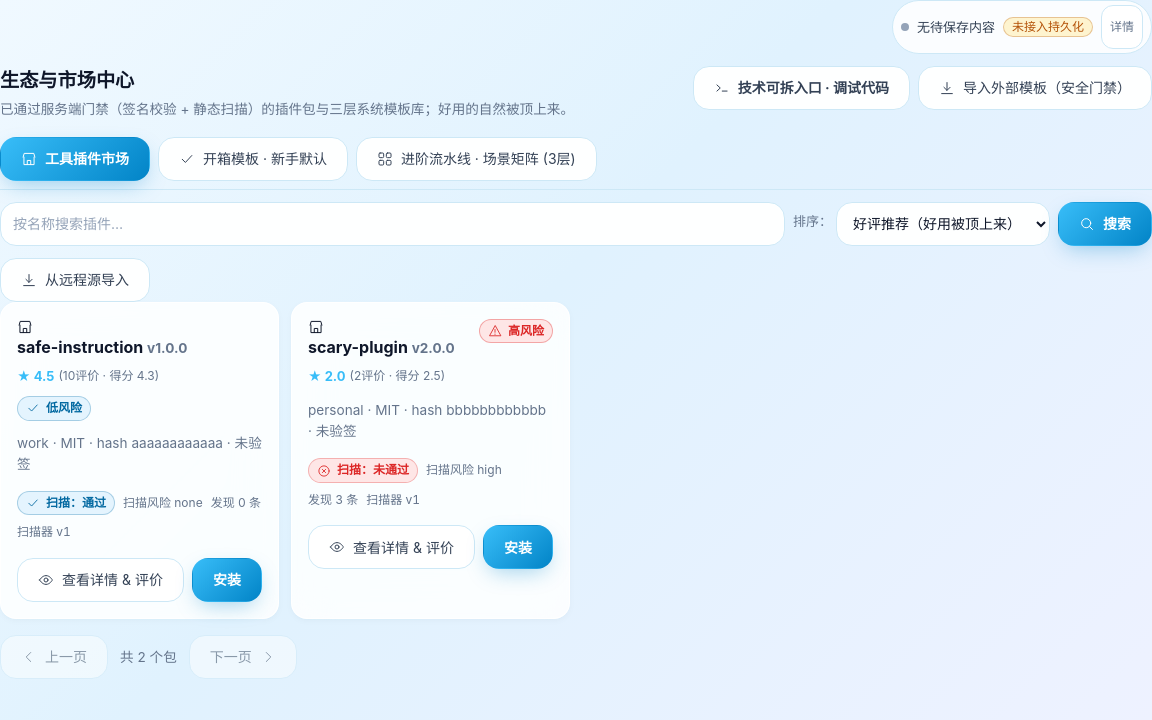
PluginMarketPage 详情与安装 › 门禁核心：高风险包在详情里再次显示高风险标记 + 能力声明 + 扫描摘要
This screenshot has width=1152, height=720.
What coordinates should you click on to do the following:
click the button with test id "plugin-detail-sk-high"
I would click on:
 (391, 548)
Its box is [308,526,475,570].
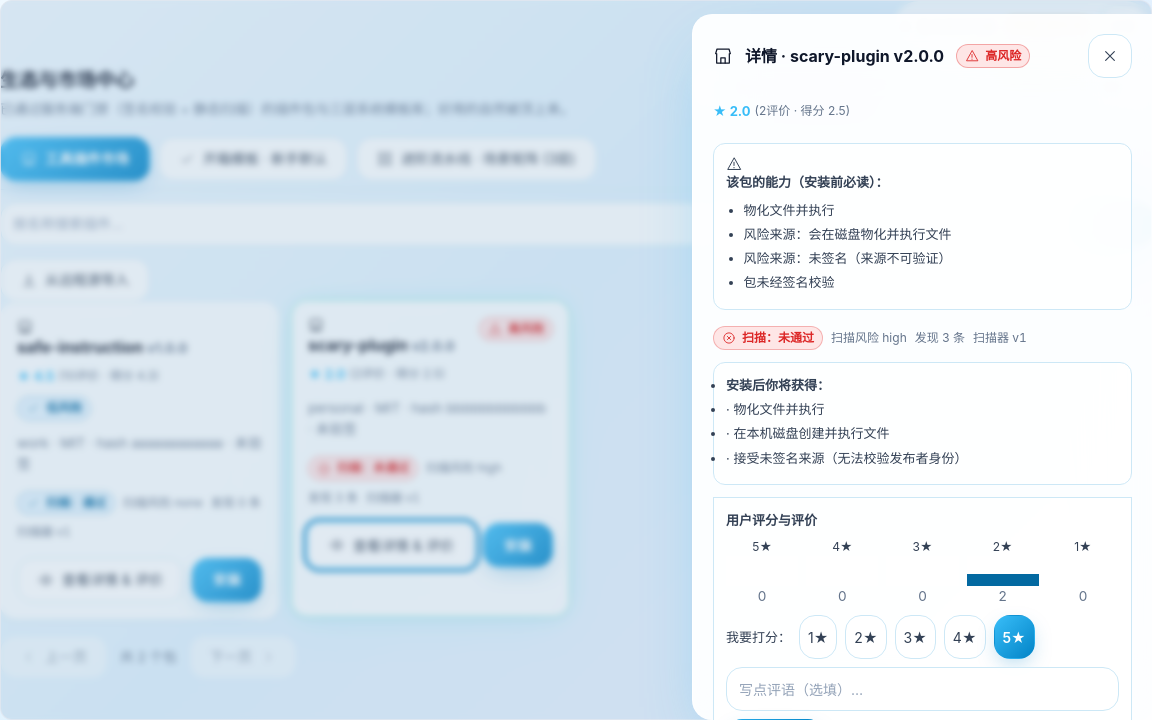
Now the dialog with test id "plugin-detail" shows "高风险", box [985,48,1021,63]
Now the element with test id "plugin-capabilities" shows "物化文件并执行", box [744,202,835,218]
Now the element with test id "plugin-capabilities" shows "未签名", box [809,250,952,266]
